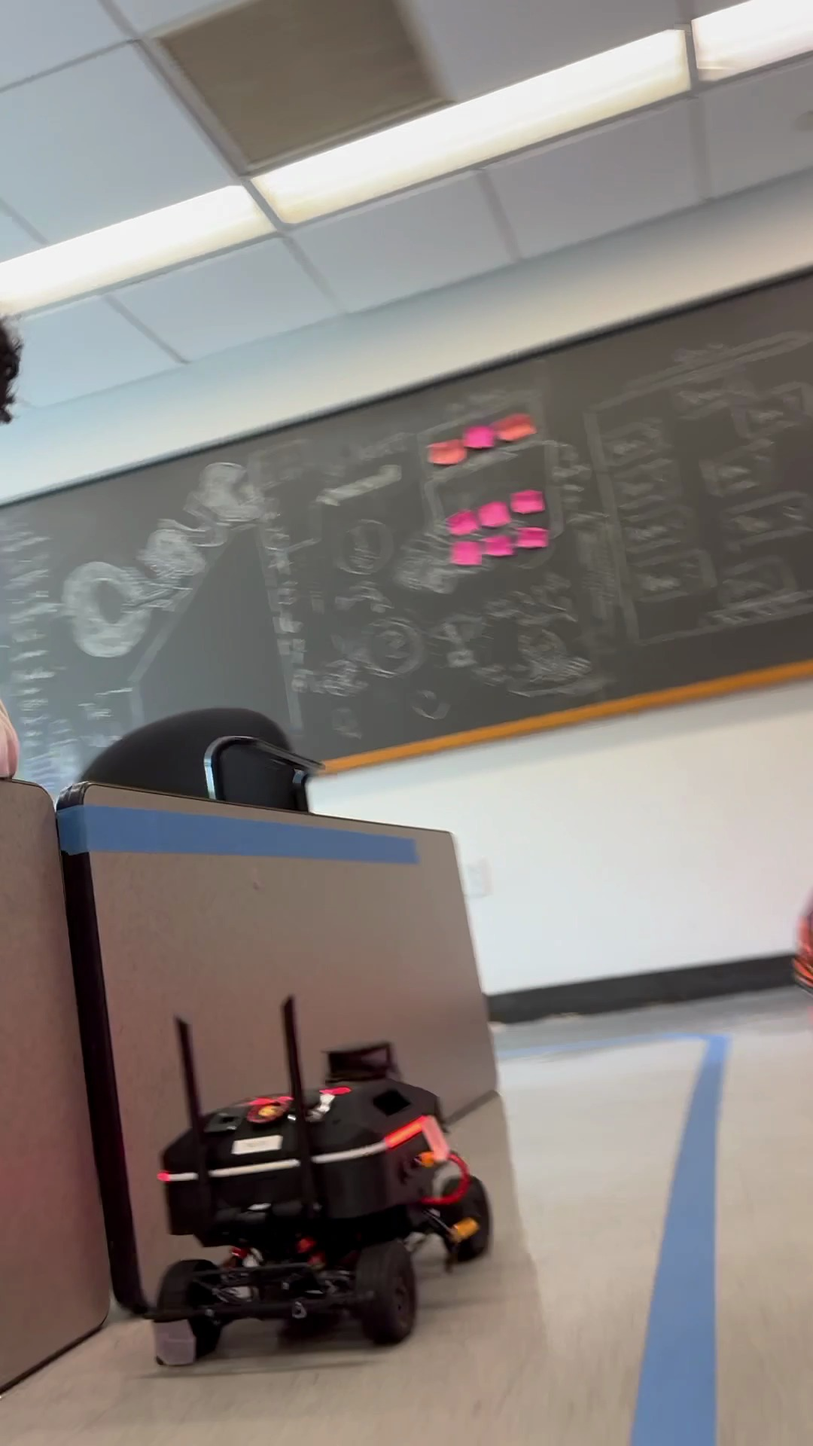racecar: (145, 994, 490, 1359)
